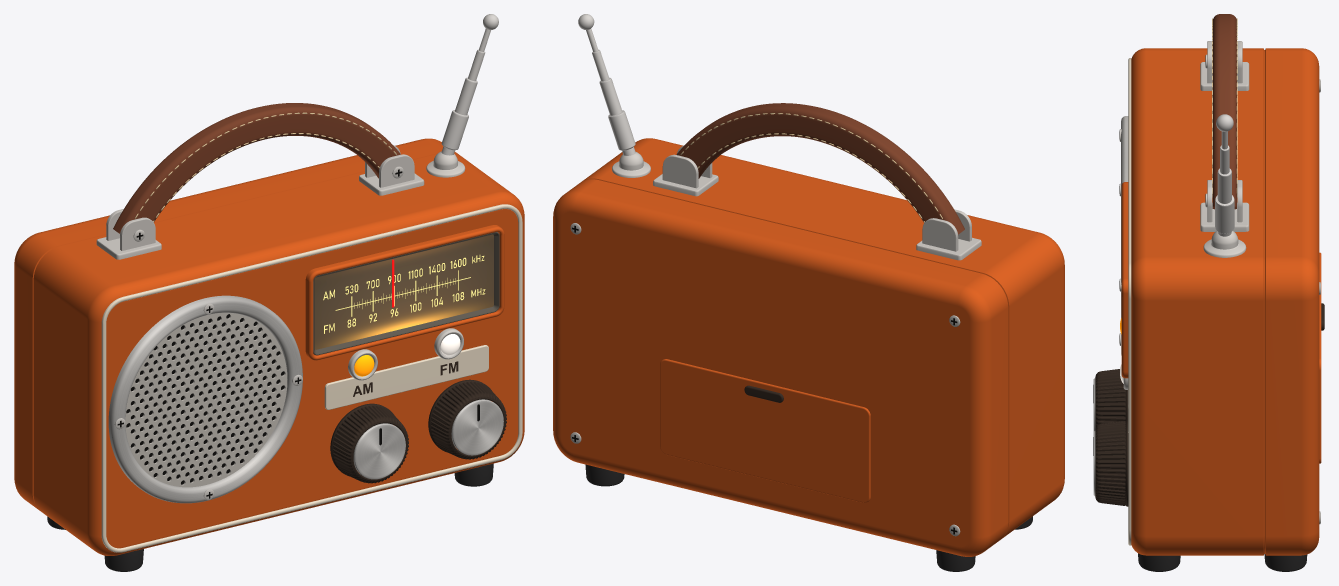
Rendered from Radio.glb.
3 renders of one model, left to right at view 1: azimuth 30°, elevation 25°; view 2: azimuth 150°, elevation 25°; view 3: azimuth 270°, elevation 25°, orthographic. The views are drawn at different scales.
Parts seen in each view (by area): view 1: Cuerpo_Radio, Rejilla_Parlante, Pantalla_Radio, Manija_Radio, Aro_Parlante, Moldura_Crema, Fondo_Parlante, Placa_AMFM, Marco_Dial, Perilla1, Perilla, Perilla1_Tapa (+12 smaller); view 2: Cuerpo_Radio, Tapa_Pilas, Manija_Radio, Antena_Radio, Placa_Manija_Der_T, Placa_Manija_Izq_T, Soporte_Manija_Izq, Base_Antena, Soporte_Manija_Der, Costuras_Manija; view 3: Cuerpo_Radio, Manija_Radio, Perilla, Moldura_Crema, Antena_Radio, Perilla1, Marco_Dial, Base_Antena, Soporte_Manija_Der, Aro_Parlante, Pata_Radio3, Pata_Radio4 (+3 smaller).
Boxes of the visible parts, x1=… form: Cuerpo_Radio: x1=14, y1=138, x2=524, y2=555; Rejilla_Parlante: x1=125, y1=312, x2=287, y2=487; Pantalla_Radio: x1=314, y1=234, x2=493, y2=349; Manija_Radio: x1=113, y1=103, x2=400, y2=233; Aro_Parlante: x1=108, y1=295, x2=302, y2=503; Moldura_Crema: x1=101, y1=204, x2=522, y2=552; Fondo_Parlante: x1=126, y1=314, x2=284, y2=484; Placa_AMFM: x1=324, y1=345, x2=488, y2=409; Marco_Dial: x1=305, y1=225, x2=504, y2=360; Perilla1: x1=330, y1=403, x2=408, y2=483; Perilla: x1=428, y1=379, x2=506, y2=459; Perilla1_Tapa: x1=353, y1=423, x2=405, y2=479; Cuerpo_Radio: x1=553, y1=138, x2=1064, y2=556; Tapa_Pilas: x1=660, y1=359, x2=870, y2=502; Manija_Radio: x1=676, y1=103, x2=964, y2=234; Antena_Radio: x1=578, y1=14, x2=635, y2=155; Placa_Manija_Der_T: x1=662, y1=154, x2=698, y2=188; Placa_Manija_Izq_T: x1=922, y1=218, x2=958, y2=251; Soporte_Manija_Izq: x1=916, y1=237, x2=981, y2=260; Base_Antena: x1=612, y1=152, x2=650, y2=177; Soporte_Manija_Der: x1=653, y1=174, x2=718, y2=196; Costuras_Manija: x1=680, y1=113, x2=942, y2=222; Cuerpo_Radio: x1=1131, y1=48, x2=1319, y2=555; Manija_Radio: x1=1212, y1=14, x2=1236, y2=209; Perilla: x1=1095, y1=420, x2=1128, y2=506; Moldura_Crema: x1=1128, y1=58, x2=1131, y2=545; Antena_Radio: x1=1215, y1=114, x2=1234, y2=236; Perilla1: x1=1095, y1=369, x2=1127, y2=428; Marco_Dial: x1=1121, y1=182, x2=1128, y2=378; Base_Antena: x1=1203, y1=231, x2=1246, y2=257; Soporte_Manija_Der: x1=1200, y1=202, x2=1249, y2=231; Aro_Parlante: x1=1121, y1=116, x2=1128, y2=355; Pata_Radio3: x1=1138, y1=553, x2=1180, y2=571; Pata_Radio4: x1=1264, y1=554, x2=1307, y2=571.
Bounding box in the file's own units: 0.2553 × 0.236 × 0.1041.
Materials: 18 (2 with a texture image).
